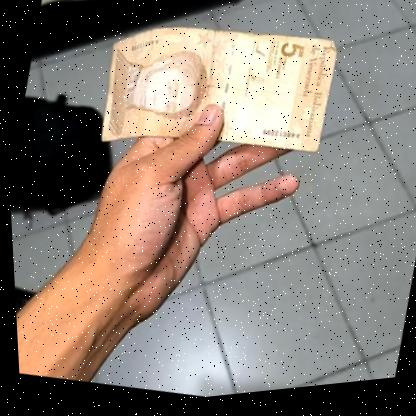five-front-vef: (89, 0, 342, 193)
